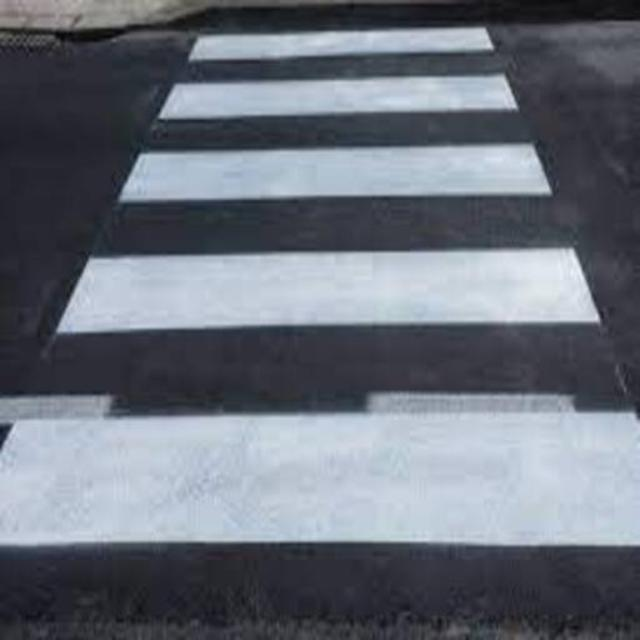sidewalk: (0, 17, 640, 639)
